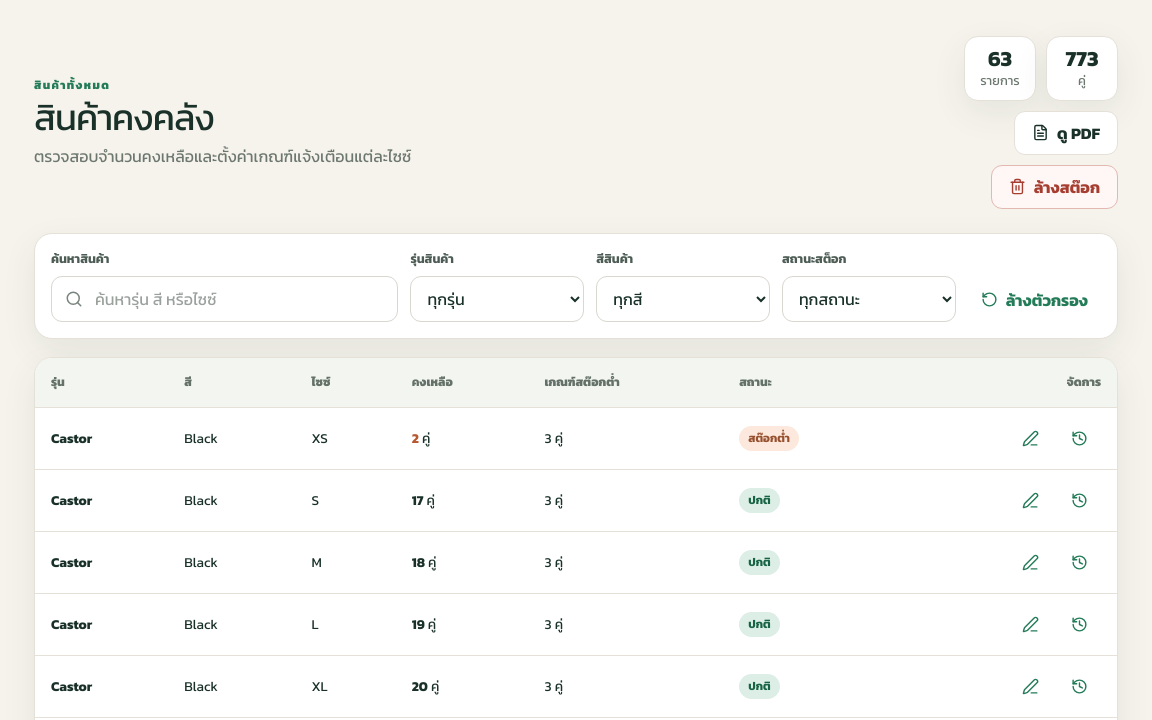
Test: InventoryPage › summarizes matching variants and pairs as filters change
The image size is (1152, 720).
Expected: the text "63" is shown, left=988, top=47, right=1012, bottom=71
Expected: the text "773" is shown, left=1066, top=47, right=1098, bottom=71
Select "Castor" in the dropdown labelled "รุ่นสินค้า" at (497, 299), box left=412, top=277, right=583, bottom=321
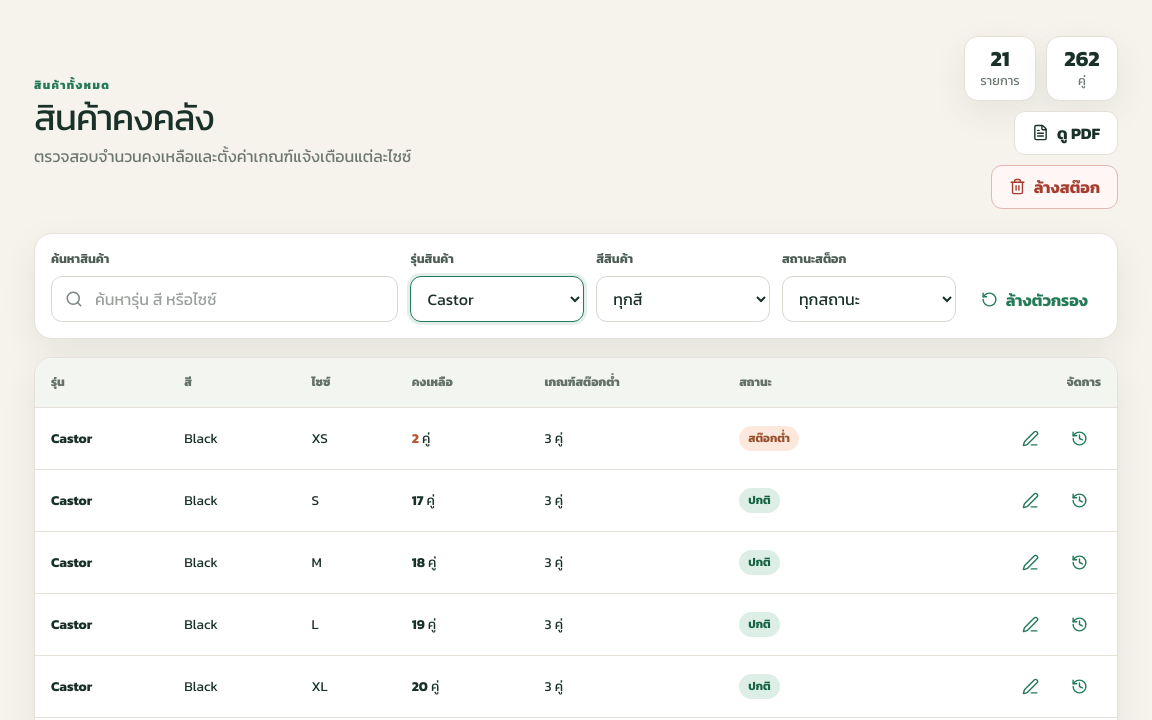
Select "Brown" in the dropdown labelled "สีสินค้า" at (683, 299), box left=597, top=277, right=769, bottom=321
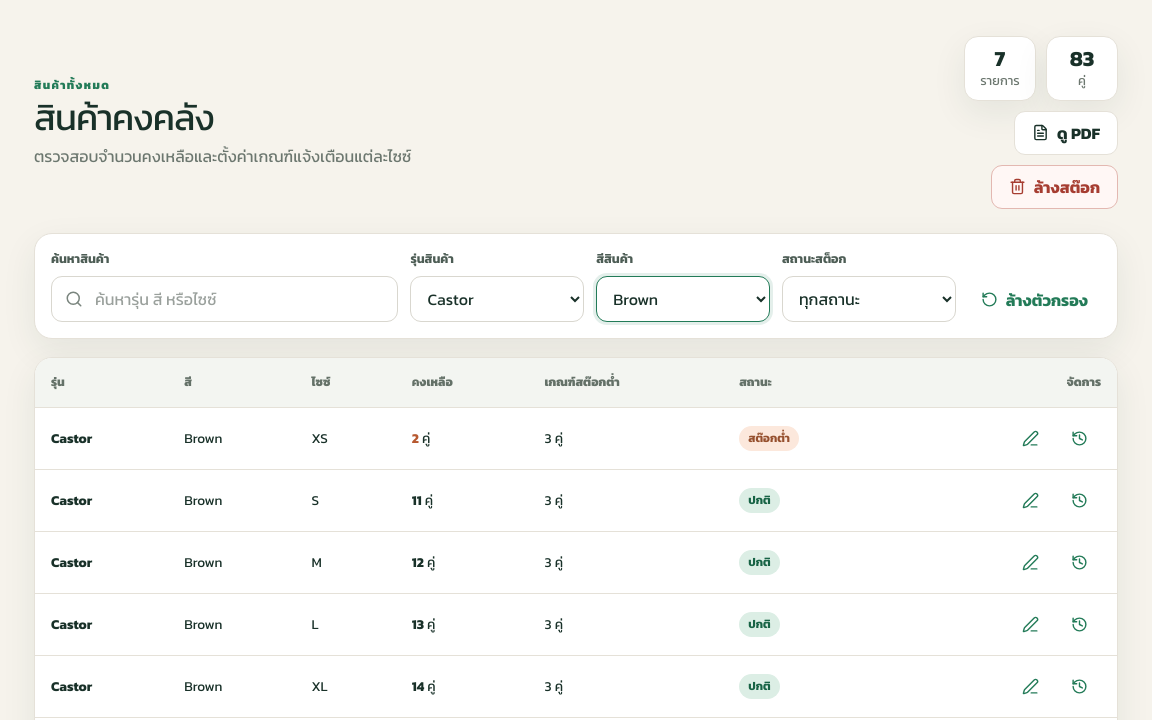
Expected: the text "7" is shown, left=995, top=47, right=1005, bottom=71
Expected: the text "83" is shown, left=1070, top=47, right=1094, bottom=71
Type "ไม่มีสินค้านี้" into the search field labelled "ค้นหาสินค้า" at (240, 299), box left=83, top=277, right=398, bottom=321
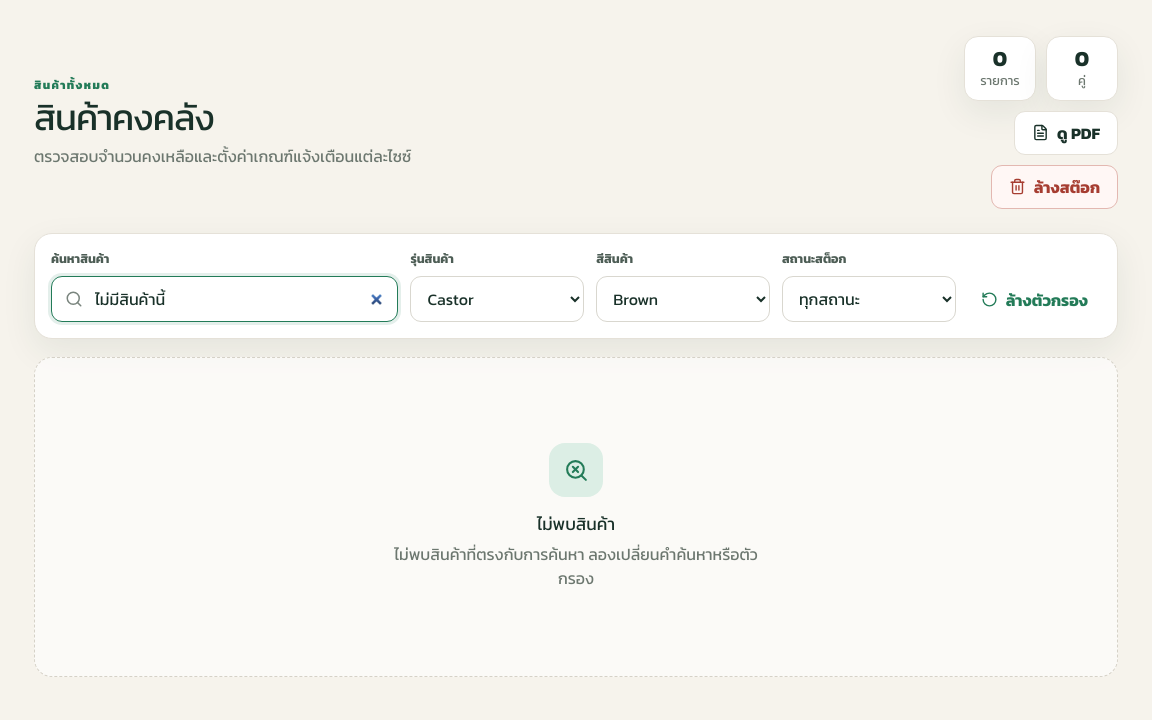
Expected: the text "0" is shown 2 times, left=993, top=47, right=1007, bottom=71; left=1075, top=47, right=1089, bottom=71
